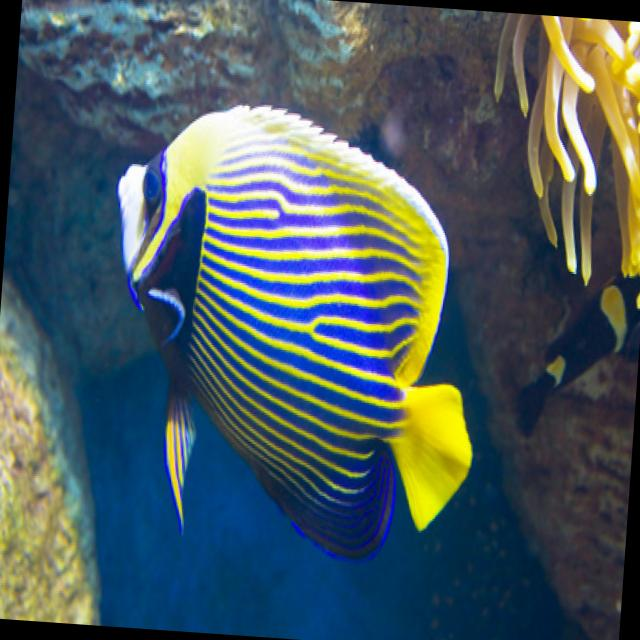AngelFish: (97, 94, 498, 534)
